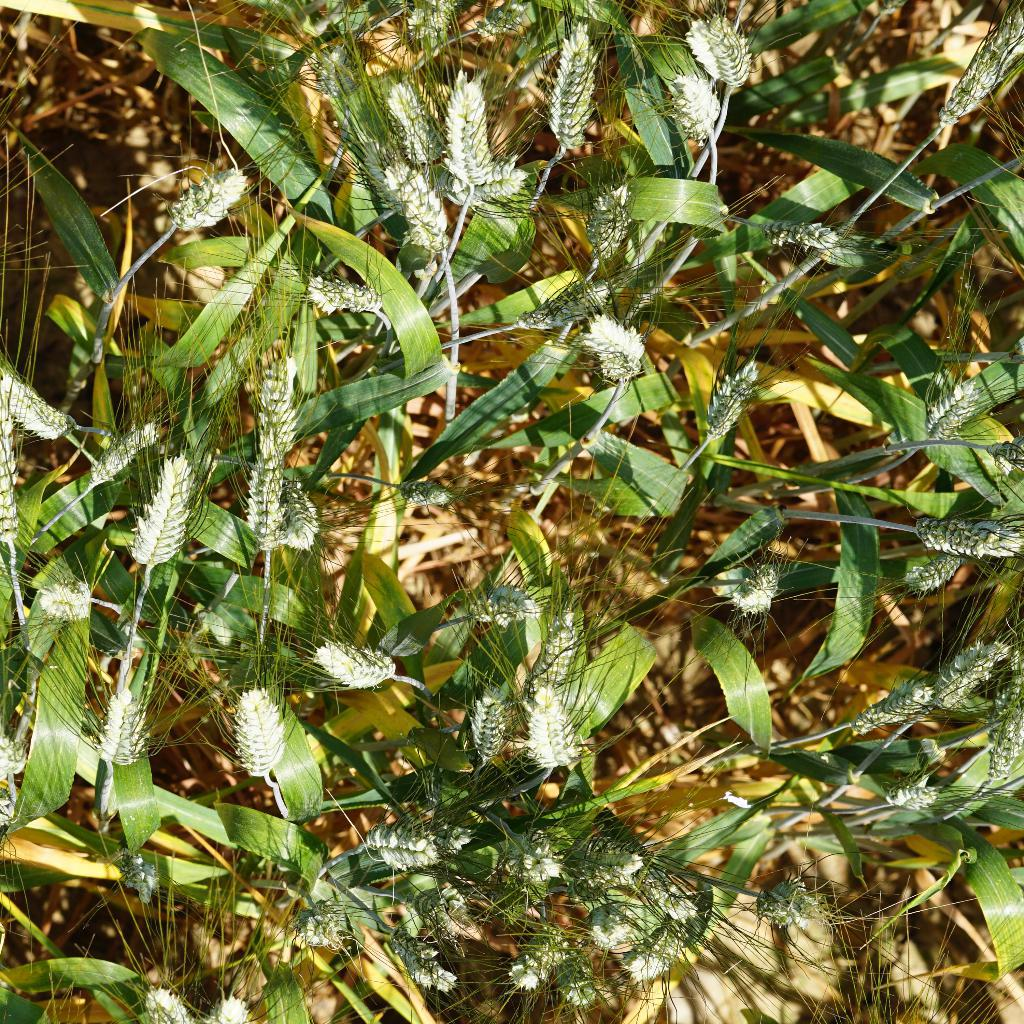0-0: (935, 0, 1021, 144), (369, 157, 460, 271), (151, 153, 262, 238), (538, 18, 600, 156), (220, 668, 291, 788), (133, 441, 193, 574), (249, 338, 307, 474), (576, 302, 657, 399), (246, 461, 326, 556), (292, 258, 389, 335), (702, 339, 772, 445), (903, 505, 1023, 565), (684, 3, 768, 86), (516, 601, 600, 684), (755, 201, 854, 271), (372, 63, 441, 163), (243, 427, 291, 556), (0, 388, 36, 559), (348, 804, 430, 879), (82, 680, 148, 772), (307, 638, 407, 698), (720, 546, 798, 622), (84, 416, 163, 491), (520, 271, 615, 333), (0, 355, 71, 437), (580, 171, 635, 275), (841, 675, 935, 735), (747, 866, 829, 934), (524, 694, 590, 776), (445, 73, 493, 183), (380, 931, 456, 998), (561, 825, 642, 886), (494, 822, 559, 897), (982, 691, 1024, 803), (664, 66, 722, 146), (499, 914, 559, 991), (443, 148, 524, 205), (281, 885, 346, 955), (931, 369, 985, 451), (26, 563, 98, 624), (888, 544, 970, 597), (423, 885, 489, 949), (616, 934, 691, 990), (314, 26, 364, 108), (927, 639, 1001, 694), (460, 684, 509, 763), (475, 574, 548, 627), (875, 764, 945, 817), (641, 867, 697, 933), (111, 845, 167, 908), (390, 471, 474, 511), (129, 972, 193, 1024), (405, 0, 466, 52), (579, 888, 632, 945), (471, 0, 530, 48), (432, 804, 481, 858), (552, 953, 600, 1008), (979, 428, 1024, 477)
